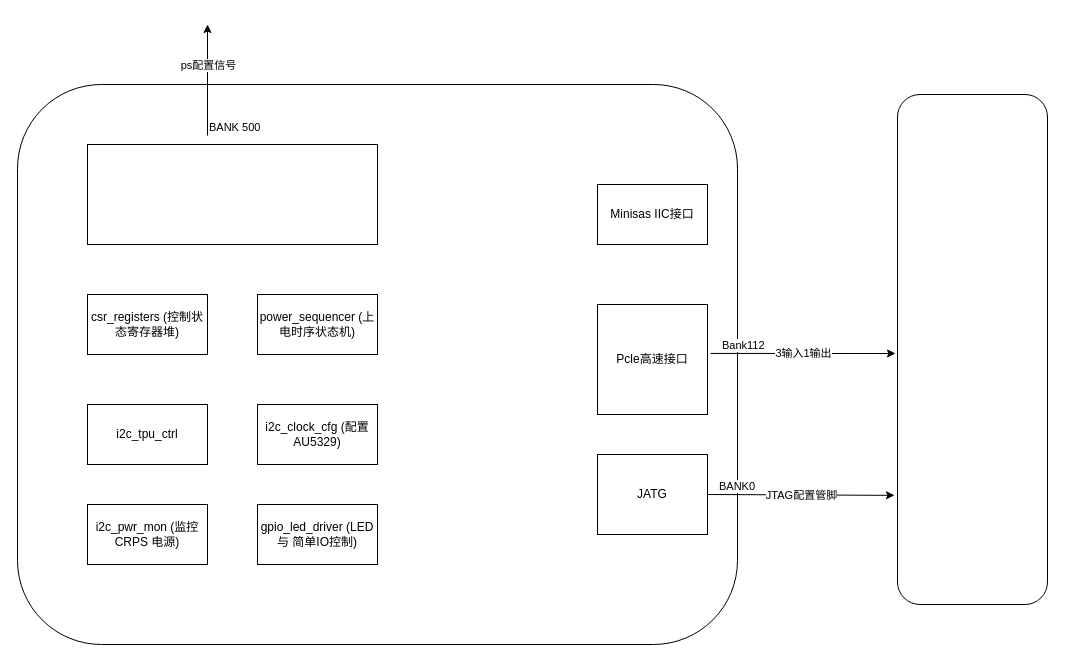
The diagram is 1065 pixels wide and 662 high, and some of its shapes have lost their labels. The box of each missing label's shape, as (x1, y1, x2, y2) in pixels:
ZYNQ: (86, 144, 378, 244)
上位机: (896, 94, 1048, 604)
